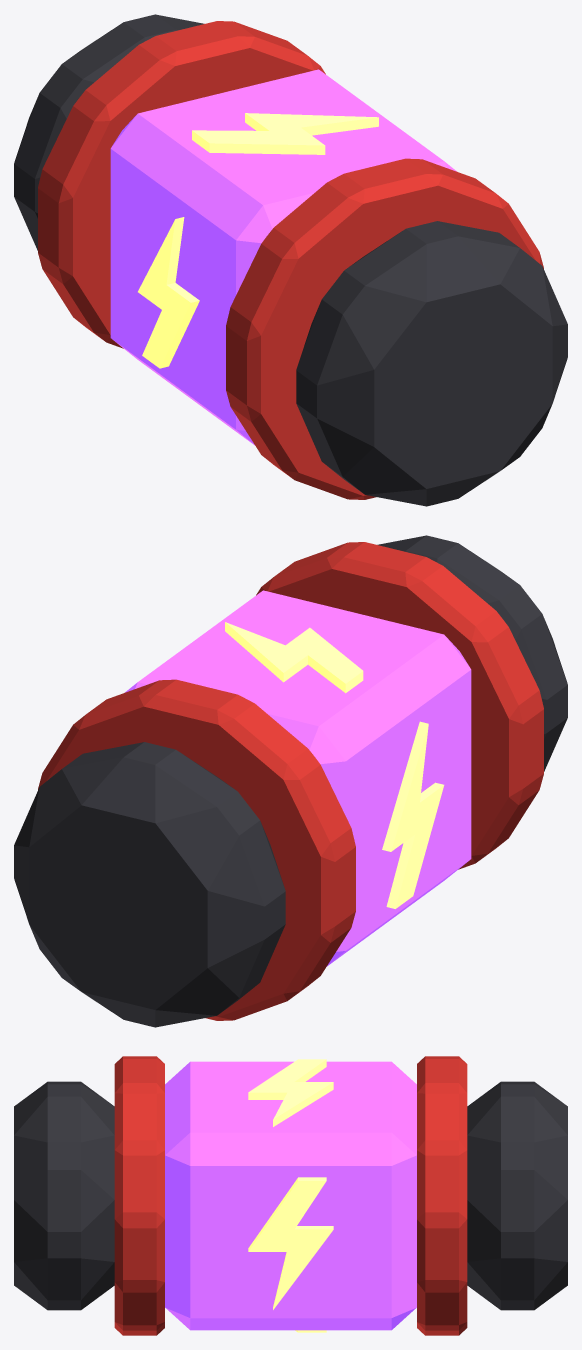
Rendered from ElementCartridge_Lightning.fbx.
3 renders of one model, top to bottom at view 1: azimuth 30°, elevation 25°; view 2: azimuth 150°, elevation 25°; view 3: azimuth 270°, elevation 25°, orthographic. The views are drawn at different scales.
Parts seen in each view (by area): view 1: Cartridge_Lightning; view 2: Cartridge_Lightning; view 3: Cartridge_Lightning.
Part boxes in pixels (x1,y1,x2,y2): Cartridge_Lightning: (14, 14, 567, 506); Cartridge_Lightning: (14, 535, 567, 1027); Cartridge_Lightning: (14, 1056, 567, 1335).
Bounding box in the file's own units: 0.0328 × 0.0328 × 0.066.
